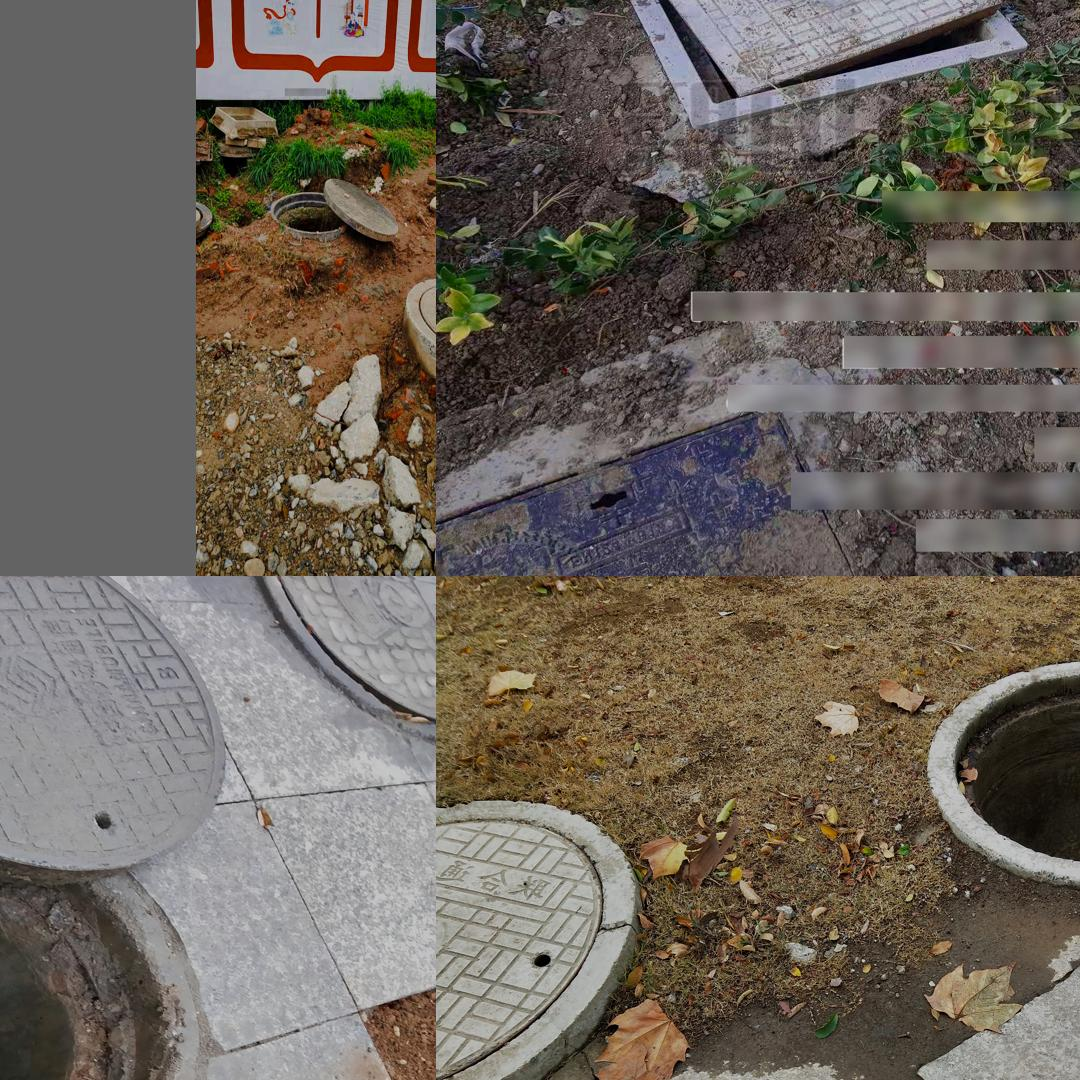good: (436, 799, 636, 1080)
uncovered: (0, 581, 225, 1080), (931, 658, 1080, 1080), (619, 0, 1031, 123), (259, 169, 404, 244)
